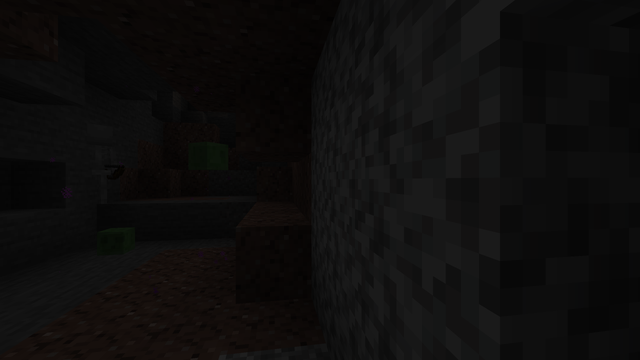slimes: (95, 226, 134, 255), (189, 140, 224, 169)
squelettes: (87, 124, 116, 205)
